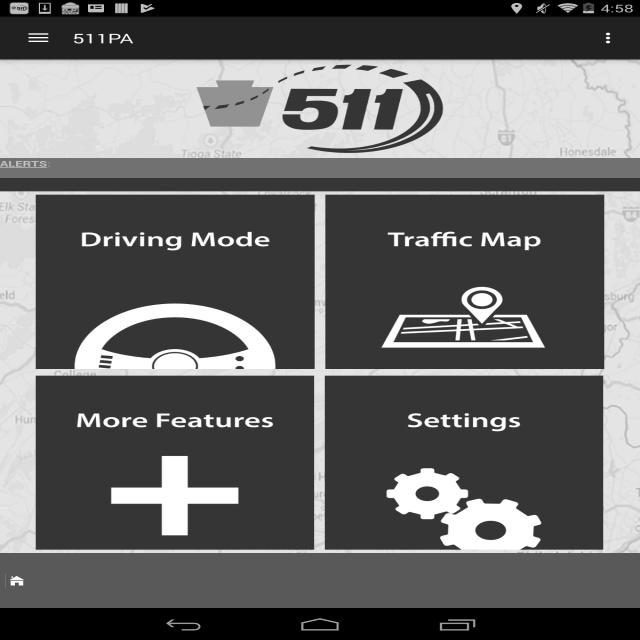ImageButton: (36, 195, 314, 369), (326, 195, 604, 369), (36, 376, 314, 550), (325, 376, 603, 550), (9, 17, 68, 59), (5, 556, 28, 605), (637, 554, 638, 607)
ImageView: (5, 62, 635, 154), (589, 22, 631, 54)
TextView: (72, 29, 134, 47)
